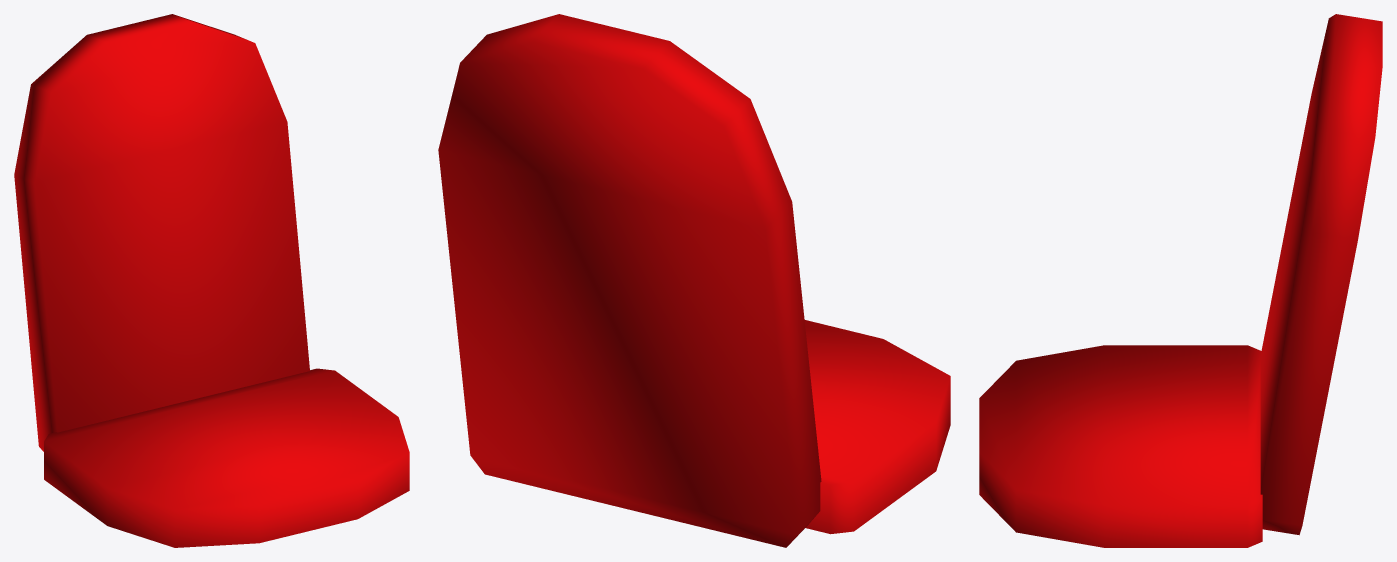
The model's file is CarChair.fbx.
3 views of the same model, side by side, from view 1: azimuth 30°, elevation 25°; view 2: azimuth 150°, elevation 25°; view 3: azimuth 270°, elevation 25° (orthographic). The views are drawn at different scales.
Visible parts, largest first — view 1: CarChair; view 2: CarChair; view 3: CarChair.
Part boxes in pixels (<box>): CarChair: <box>14,14,409,547</box>; CarChair: <box>438,14,950,547</box>; CarChair: <box>979,14,1382,547</box>.
Bounding box in the file's own units: 40.11 × 50.71 × 42.69.
